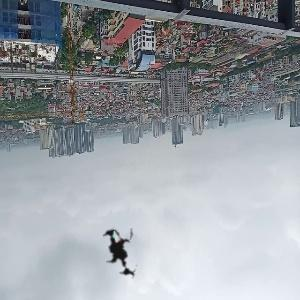drone: (84, 211, 167, 294)
